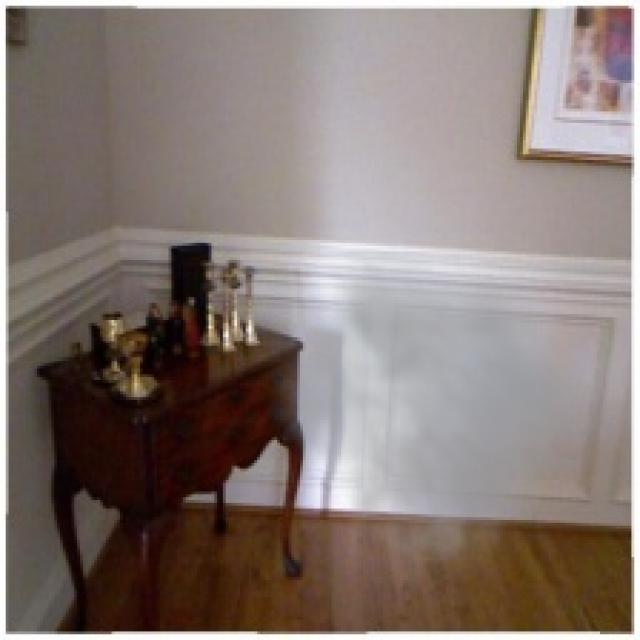smoke: (257, 251, 614, 600)
